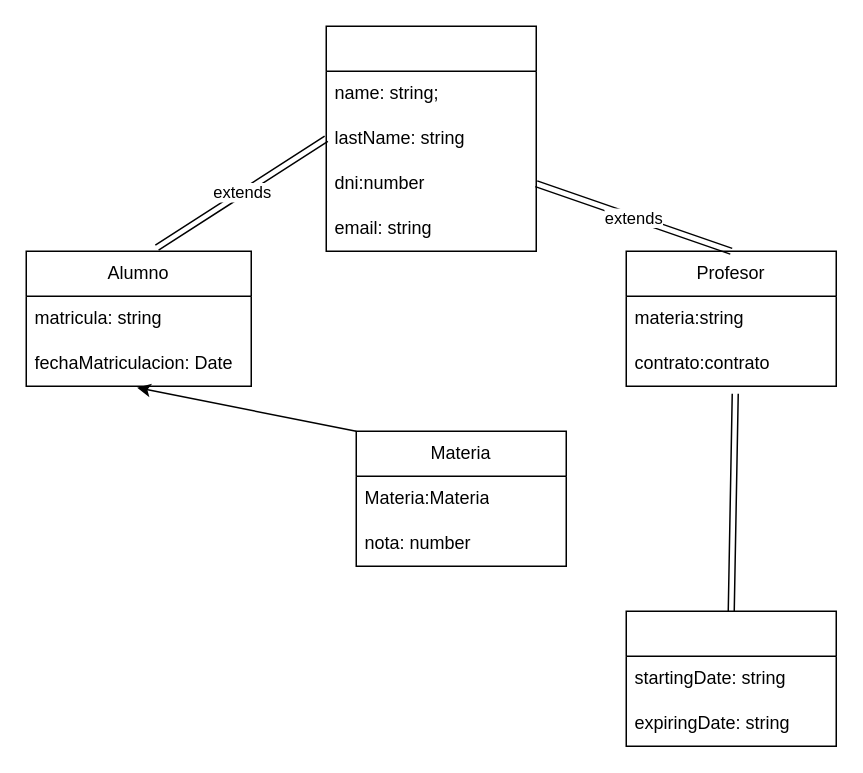
Some shapes in this 863 by 773 pixel diagram are drawn without their labels. Each missing label, with the box of its shape:
contrato: (625, 610, 836, 746)
Persona: (325, 25, 536, 251)
